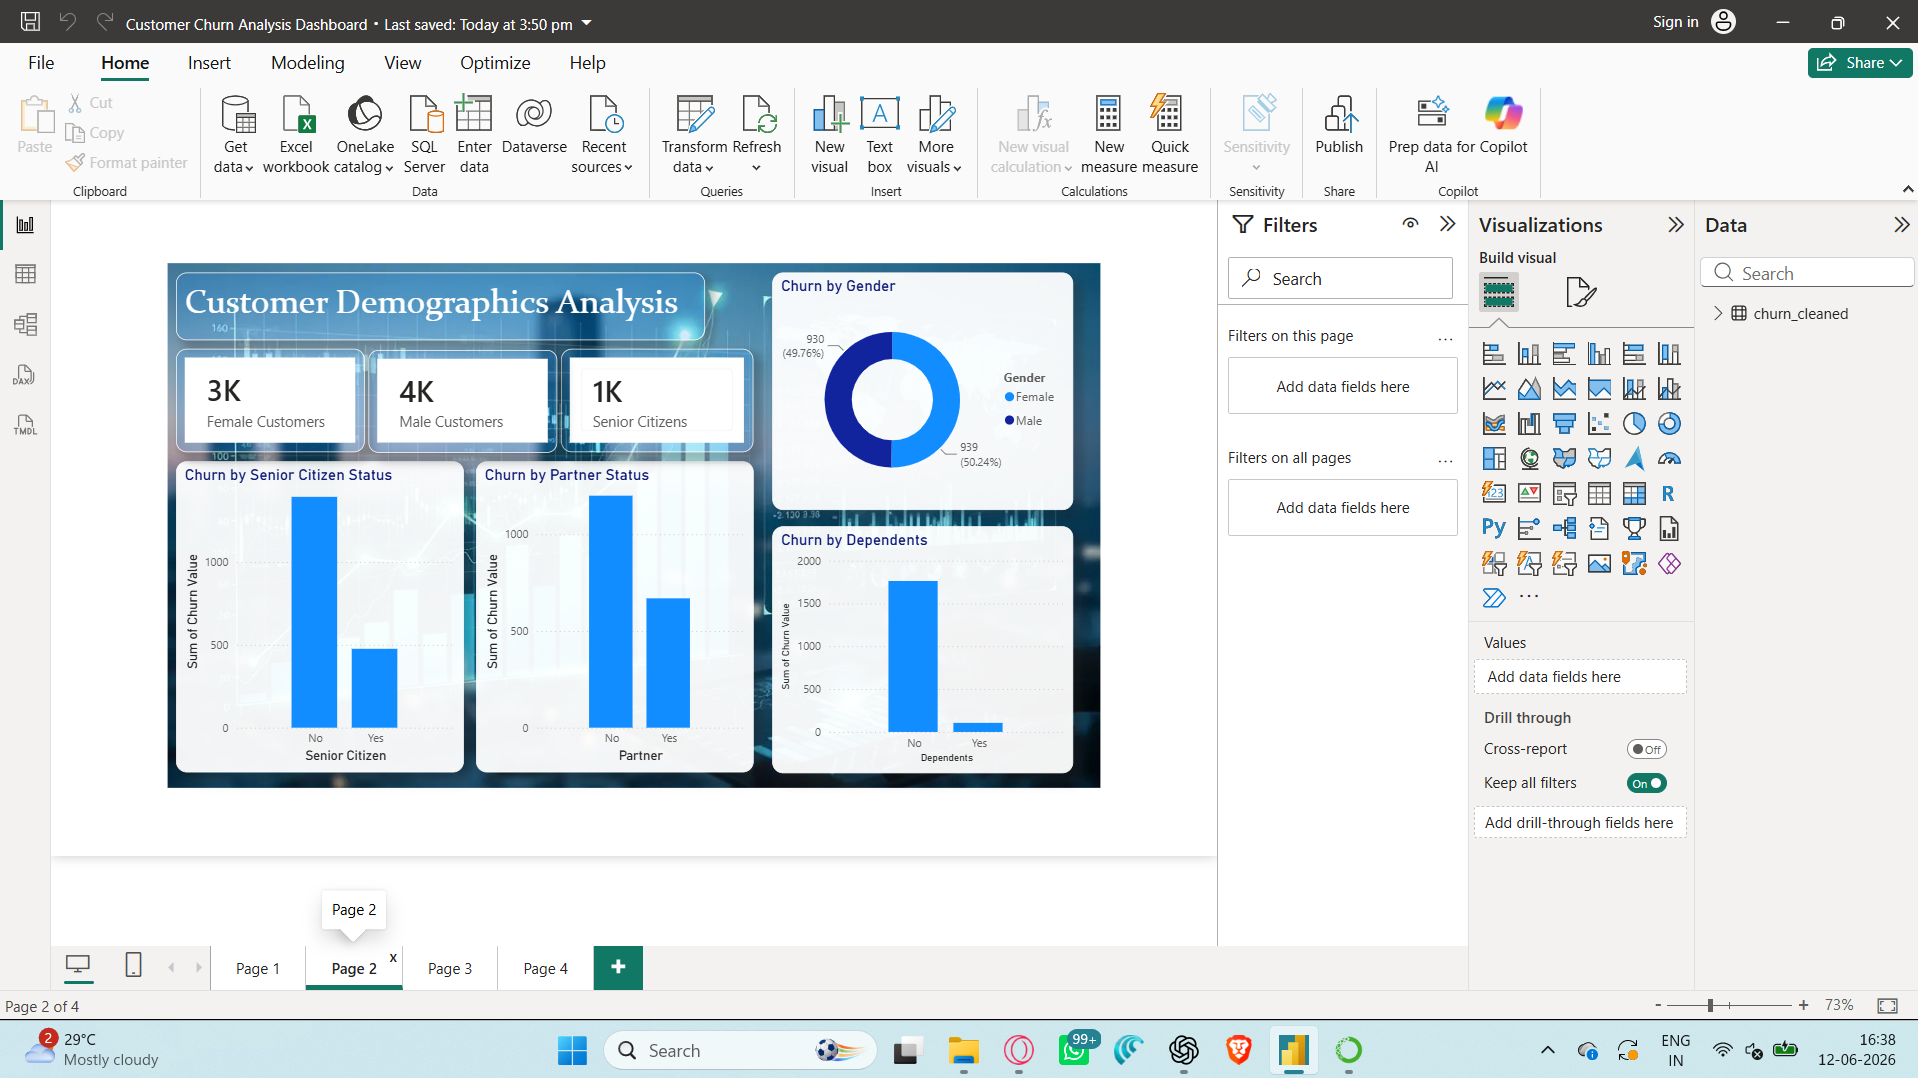

This screenshot's page, from the dashboard's own definition file:
{"tool":"powerbi","page":{"name":"Page 2","canvas":[1280,720],"ordinal":1},"visuals":[{"type":"textbox","box":[137.2,79.6,580.4,74.1],"z":0},{"type":"donutChart","title":"Churn by Gender","fields":{"Y":["Sum(churn_cleaned.Churn Value)"],"Category":["churn_cleaned.Gender"]},"box":[791.3,79.7,330.4,260.9],"z":1000},{"type":"clusteredColumnChart","title":"Churn by Senior Citizen Status","fields":{"Category":["churn_cleaned.Senior Citizen"],"Y":["Sum(churn_cleaned.Churn Value)"]},"box":[137.2,286.8,315.6,341.7],"z":2000},{"type":"clusteredColumnChart","title":"Churn by Partner Status","fields":{"Y":["Sum(churn_cleaned.Churn Value)"],"Category":["churn_cleaned.Partner"]},"box":[466.6,286.8,304.6,341.7],"z":3000},{"type":"clusteredColumnChart","title":"Churn by Dependents","fields":{"Category":["churn_cleaned.Dependents"],"Y":["Sum(churn_cleaned.Churn Value)"]},"box":[791.3,358,330.4,271],"z":4000},{"type":"cardVisual","fields":{"Data":["churn_cleaned.Senior Citizens"]},"box":[559.9,163.3,211.3,113.9],"z":5000},{"type":"cardVisual","fields":{"Data":["churn_cleaned.Female Customers"]},"box":[137.2,163.3,207.2,113.9],"z":6000},{"type":"cardVisual","fields":{"Data":["churn_cleaned.Male Customers"]},"box":[348.5,164.7,207.2,112.5],"z":7000}]}

Visuals, with their boxes on the page's 1280x720 design canvas (x1, y1, x2, y2). These are canvas units, not pixel positions in the 1918x1078 screenshot, which may show the page scaled, cropped or inside an application window:
textbox: [left=137, top=80, right=718, bottom=154]
"Churn by Gender" donutChart: [left=791, top=80, right=1122, bottom=341]
"Churn by Senior Citizen Status" clusteredColumnChart: [left=137, top=287, right=453, bottom=628]
"Churn by Partner Status" clusteredColumnChart: [left=467, top=287, right=771, bottom=628]
"Churn by Dependents" clusteredColumnChart: [left=791, top=358, right=1122, bottom=629]
cardVisual - churn_cleaned.Senior Citizens: [left=560, top=163, right=771, bottom=277]
cardVisual - churn_cleaned.Female Customers: [left=137, top=163, right=344, bottom=277]
cardVisual - churn_cleaned.Male Customers: [left=348, top=165, right=556, bottom=277]
